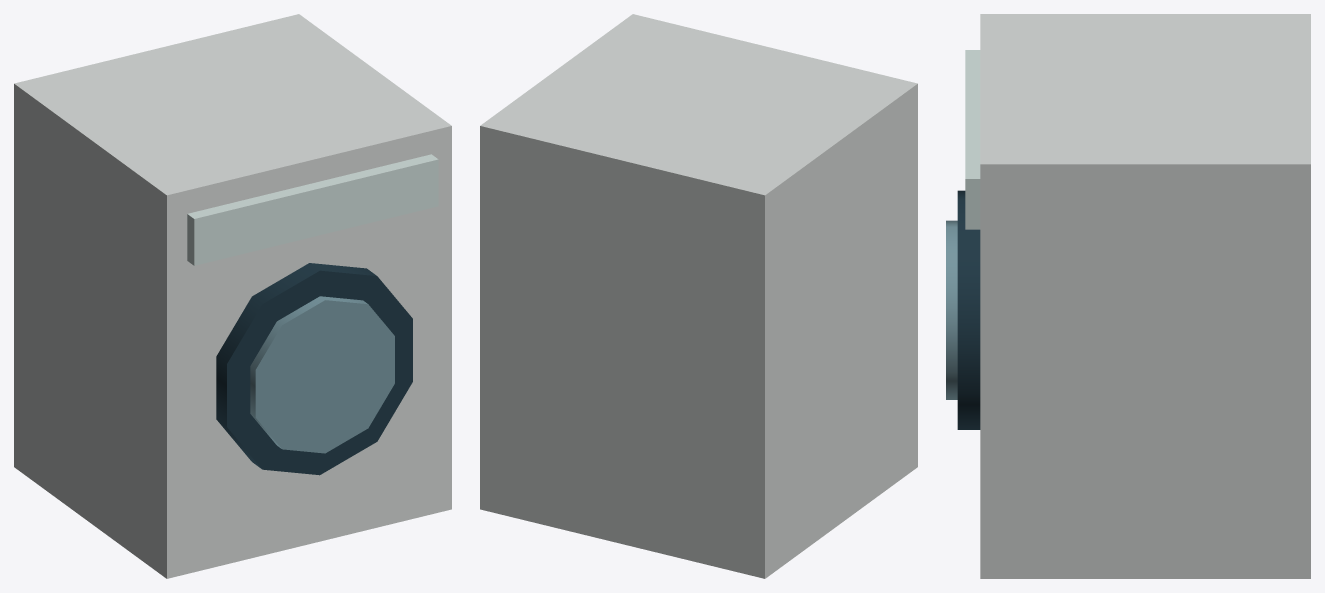
File: washer.glb
3 renders of one model, left to right at view 1: azimuth 30°, elevation 25°; view 2: azimuth 150°, elevation 25°; view 3: azimuth 270°, elevation 25°, orthographic. The views are drawn at different scales.
Visible parts, largest first — view 1: washer; view 2: washer; view 3: washer.
Boxes of the visible parts, box(x1,y1,x2,y2) form: washer: box(14, 14, 451, 578); washer: box(480, 14, 917, 578); washer: box(946, 14, 1310, 578).
Size of the model in its own units: 0.7 by 0.9 by 0.7175.
